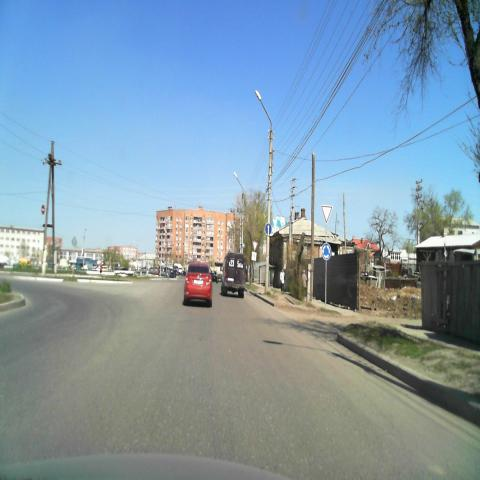4_3: (321, 242, 332, 260)
